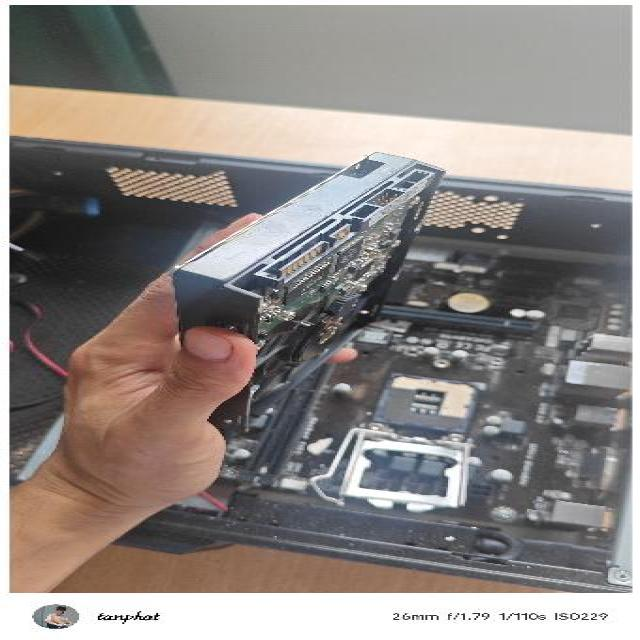DISK: (158, 150, 452, 431)
